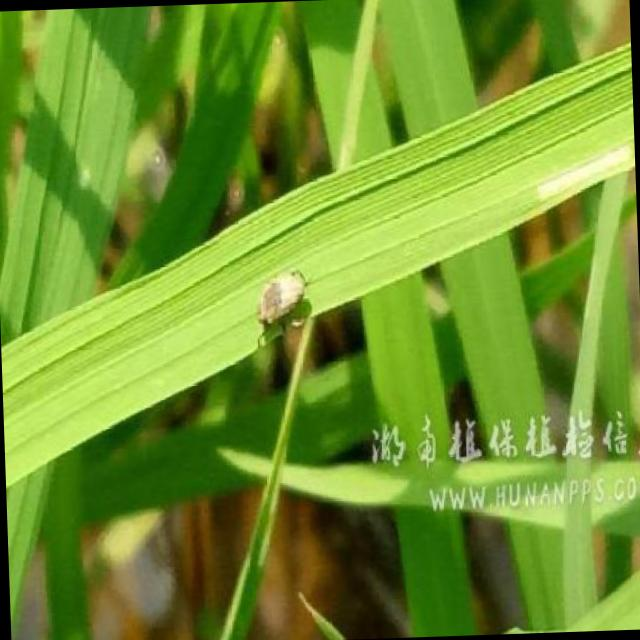rice-bug: (256, 259, 313, 338)
